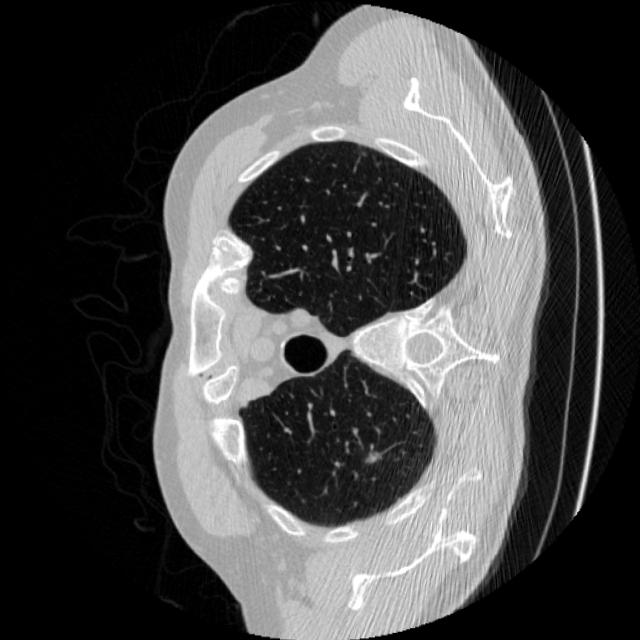nodule: (359, 448, 381, 470)
